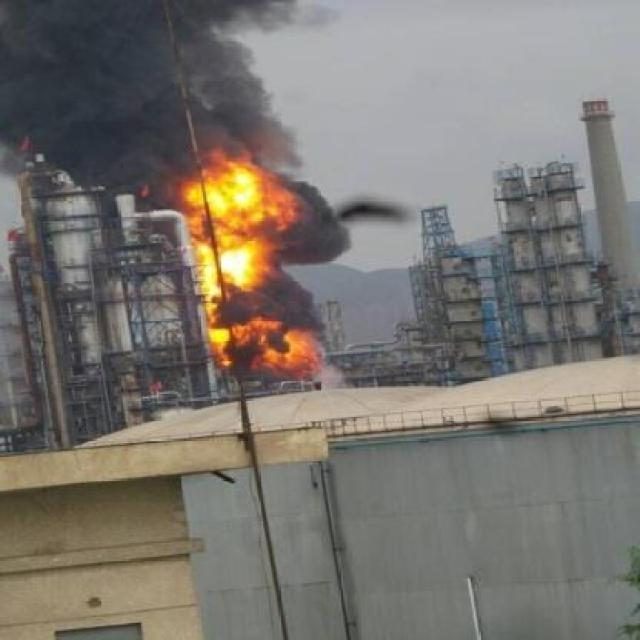Fire: (184, 164, 320, 376)
Smoke: (0, 0, 285, 163)
